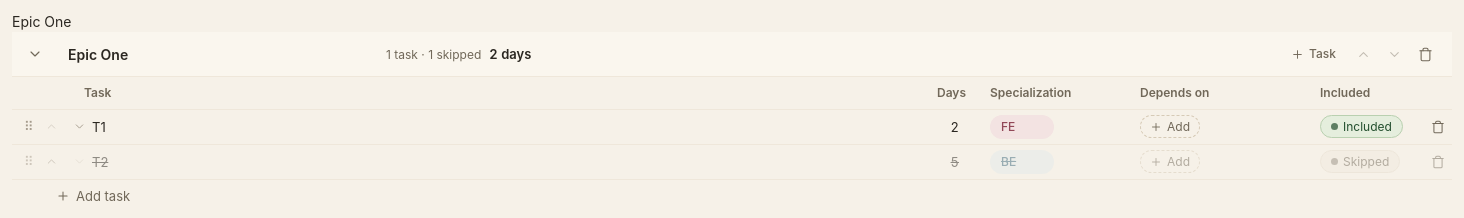
EpicCard › renames the epic on blur
The image size is (1464, 218).
Replace the text in the field named "Epic name" with "Renamed Epic" at (218, 54), box [58, 38, 378, 70]
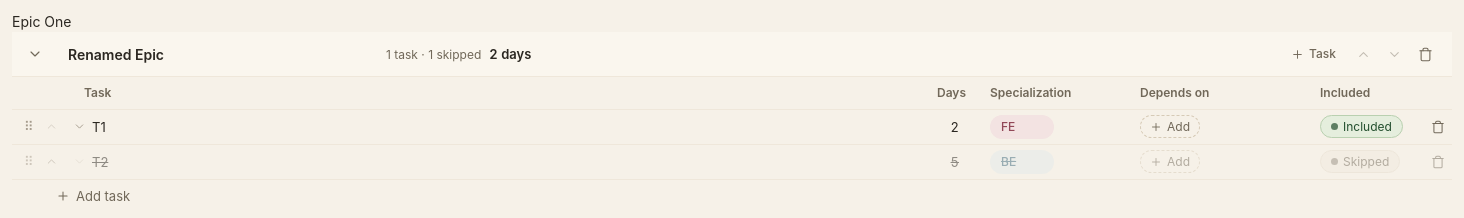
Expected: the text with test id "epic-name" reads "Epic One", [12, 13, 72, 30]
Leave the field named "Epic name", box [58, 38, 378, 70]
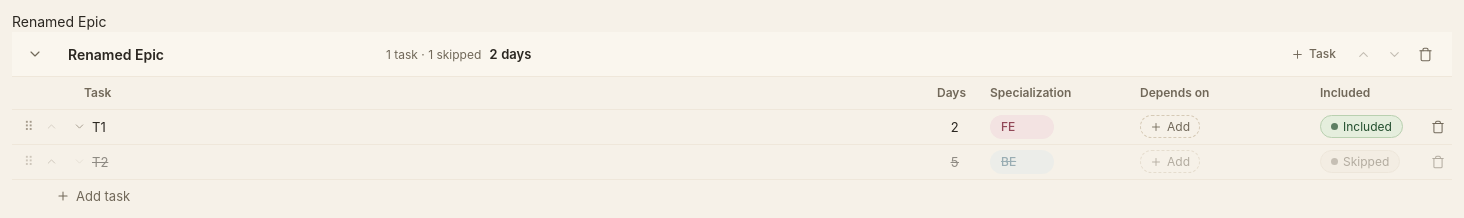
Result: the text with test id "epic-name" reads "Renamed Epic" at [12, 13, 106, 30]
